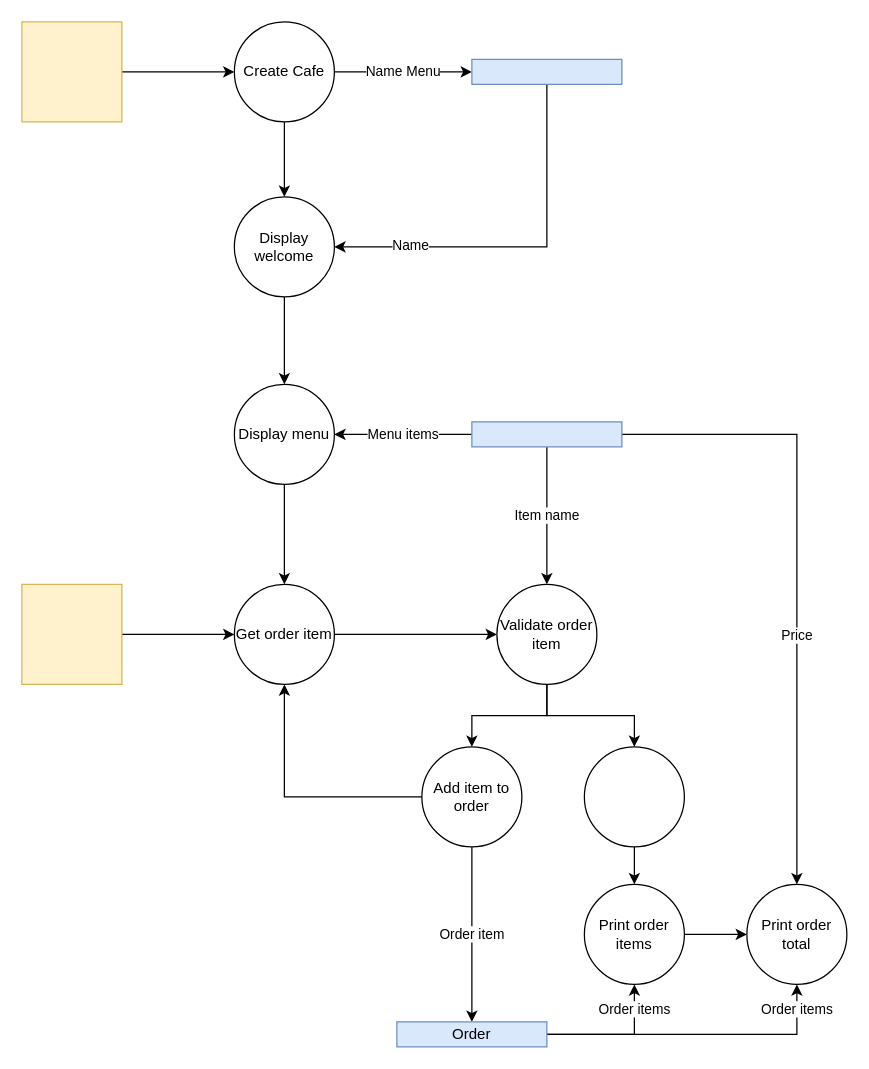
This 869x1069 diagram has some shape labels left out. The box of each missing label's shape, as (x1, y1, x2, y2) in pixels:
App: (21, 21, 122, 122)
Cafe: (471, 58, 622, 84)
Done: (583, 746, 684, 847)
Menu: (471, 421, 622, 447)
User: (21, 583, 122, 684)
